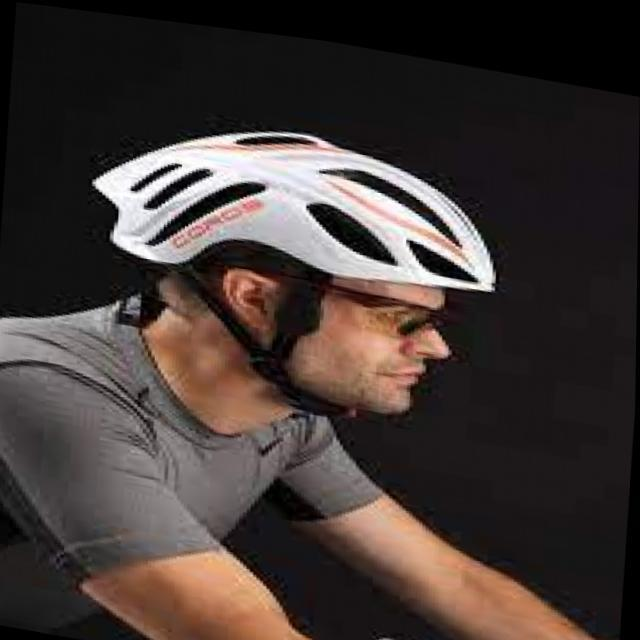Helmet: (89, 126, 499, 420)
